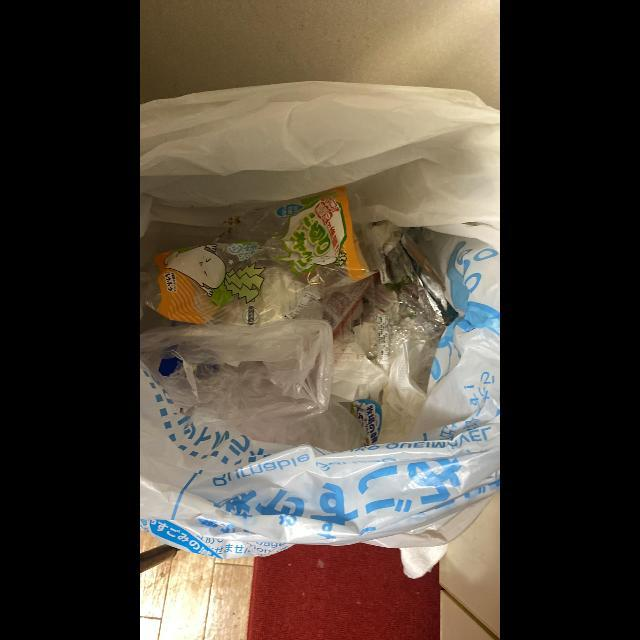plastic: (140, 319, 335, 448)
wrapper: (149, 187, 370, 325)
